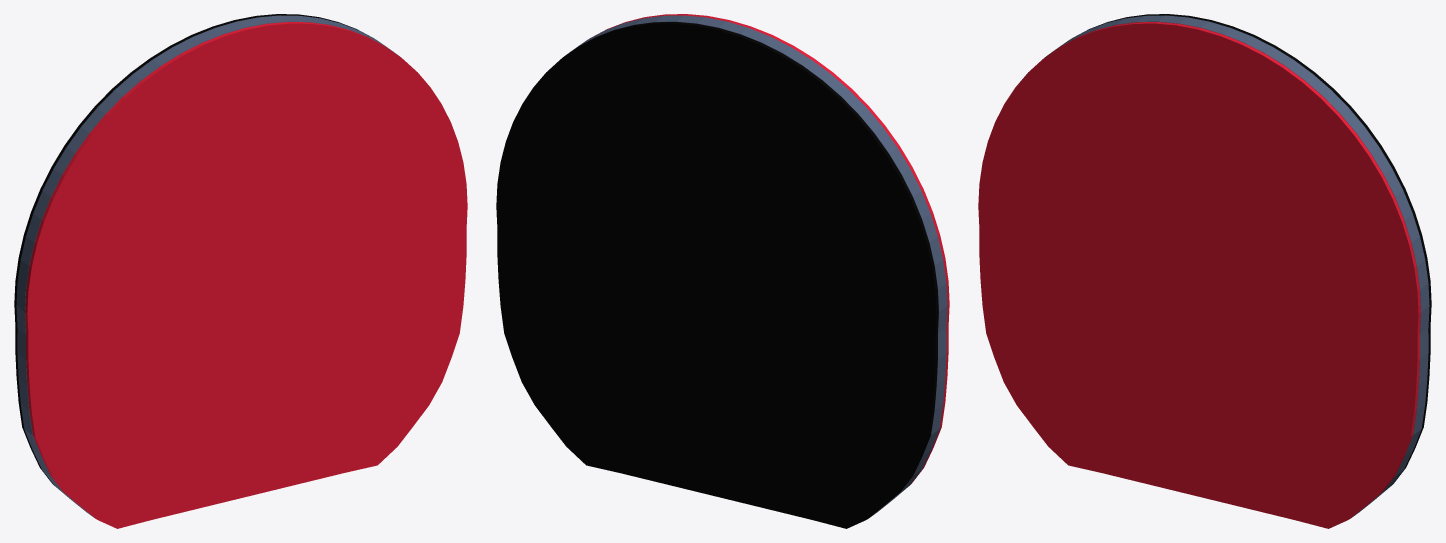
The model's file is rackettop.fbx.
3 views of the same model, side by side, from view 1: azimuth 30°, elevation 25°; view 2: azimuth 150°, elevation 25°; view 3: azimuth 330°, elevation 25° (orthographic).
Parts seen in each view (by area): view 1: RacketTop; view 2: RacketTop; view 3: RacketTop.
Part boxes in pixels (box(x1,y1,x2,y2)): RacketTop: box(14, 14, 467, 528); RacketTop: box(496, 14, 949, 528); RacketTop: box(978, 14, 1431, 528).
Size of the model in its own units: 2 by 2.03 by 0.1032.
